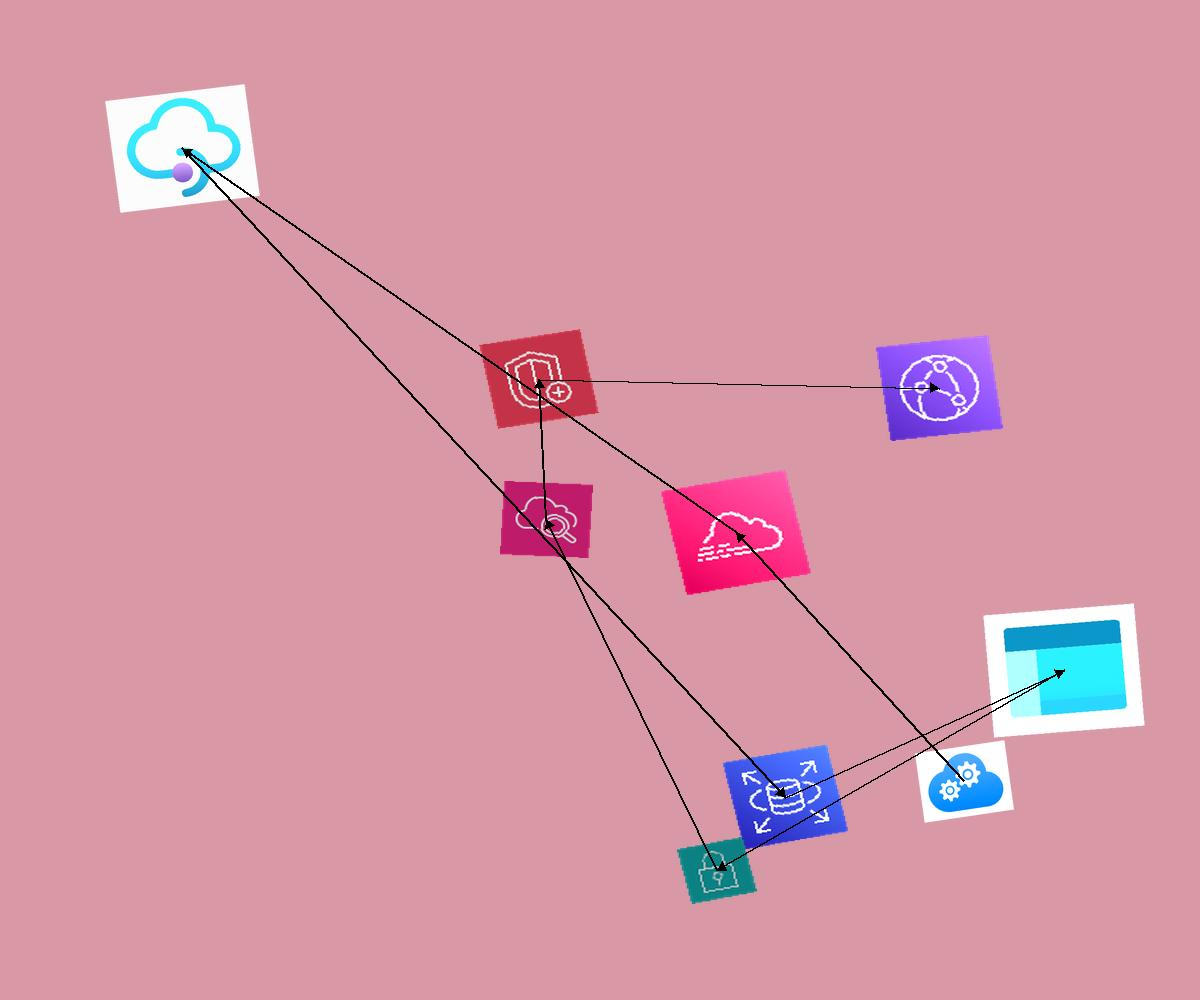AWS-CloudFront: (876, 335, 1003, 441)
AWS-CloudTrail: (660, 469, 812, 596)
AWS-CloudWatch: (500, 481, 593, 558)
AWS-Private-subnet: (677, 837, 757, 904)
AWS-RDS: (722, 744, 849, 850)
AWS-Shield: (479, 329, 599, 429)
Azure_api_gateway: (105, 84, 260, 213)
Azure_cloud_services: (915, 740, 1014, 823)
Azure_management-portal: (983, 603, 1145, 738)
